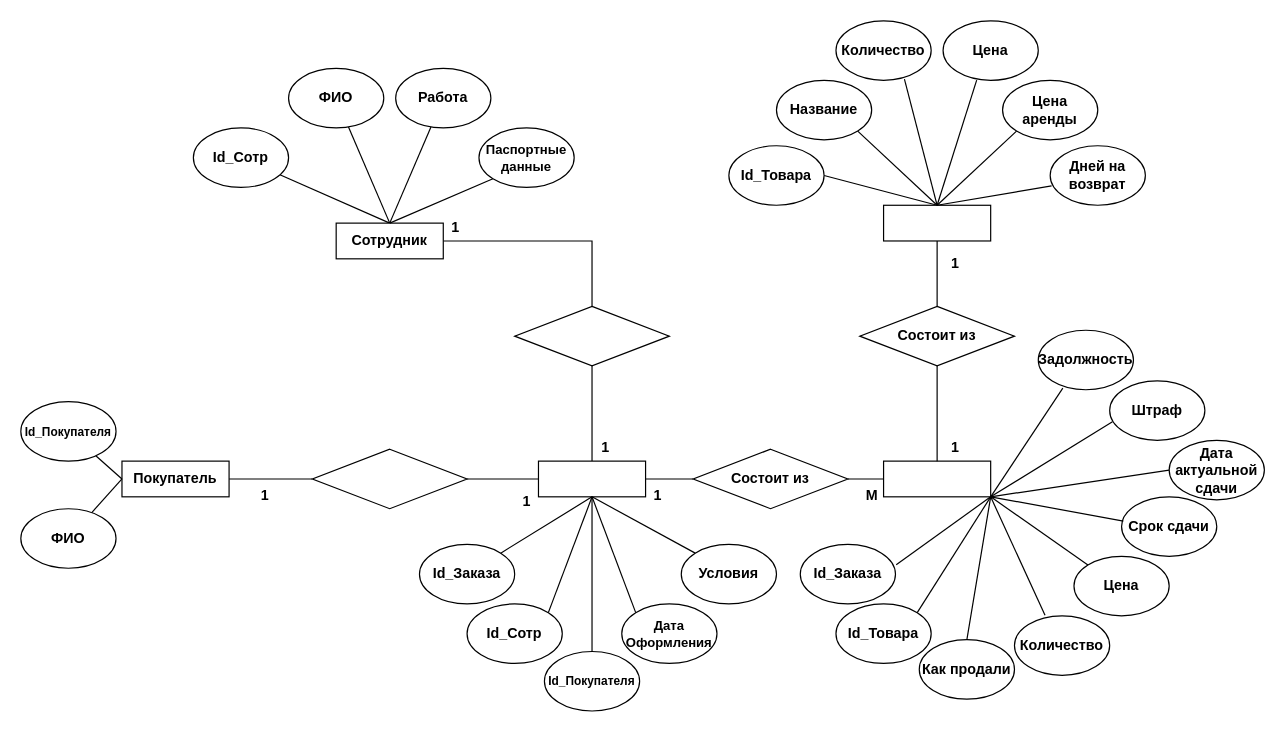
Some shapes in this 1285 by 732 pixel diagram are drawn without their labels. The centre of each missing label's shape, as x and y in pixels:
"Заказ" belongs at pixel 591 478.
"Обслуживает" belongs at pixel 591 335.
"Покупает" belongs at pixel 389 478.
"Товары" belongs at pixel 936 222.
"Чек" belongs at pixel 936 478.
